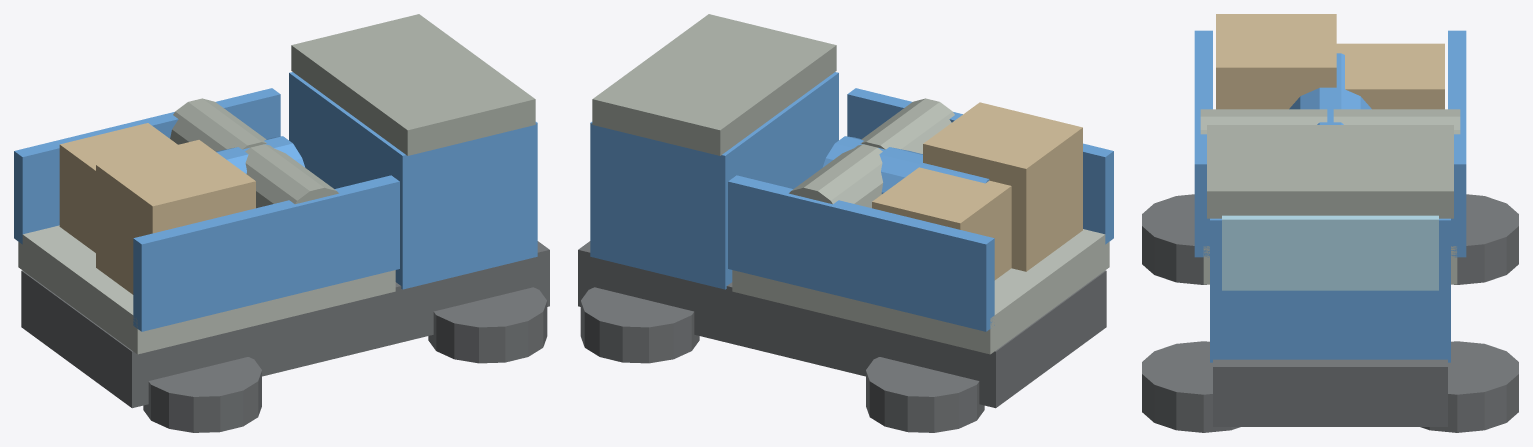
The model's file is supply_blue.glb.
3 views of the same model, side by side, from view 1: azimuth 30°, elevation 25°; view 2: azimuth 150°, elevation 25°; view 3: azimuth 270°, elevation 25° (orthographic). The views are drawn at different scales.
Visible parts, largest first — view 1: part05, part09, part00, part07, part11, part08, part01, part10, part03, part12, part13, part14 (+1 smaller); view 2: part05, part10, part00, part07, part11, part08, part12, part02, part04, part09, part14, part13 (+1 smaller); view 3: part07, part05, part06, part00, part11, part12, part01, part02, part03, part04, part09, part10 (+4 smaller).
Part boxes in pixels (x1=…): part05: x1=289, y1=72, x2=537, y2=289; part09: x1=133, y1=175, x2=399, y2=331; part00: x1=21, y1=241, x2=549, y2=408; part07: x1=291, y1=14, x2=535, y2=155; part11: x1=96, y1=140, x2=255, y2=294; part08: x1=18, y1=225, x2=395, y2=354; part01: x1=428, y1=287, x2=547, y2=363; part10: x1=14, y1=88, x2=280, y2=244; part03: x1=143, y1=357, x2=261, y2=432; part12: x1=59, y1=123, x2=177, y2=252; part13: x1=245, y1=144, x2=338, y2=208; part14: x1=170, y1=98, x2=266, y2=151; part05: x1=590, y1=72, x2=838, y2=289; part10: x1=728, y1=175, x2=994, y2=331; part00: x1=578, y1=241, x2=1106, y2=408; part07: x1=592, y1=14, x2=836, y2=155; part11: x1=923, y1=102, x2=1082, y2=271; part08: x1=732, y1=229, x2=1109, y2=354; part12: x1=872, y1=167, x2=1011, y2=280; part02: x1=580, y1=287, x2=699, y2=363; part04: x1=866, y1=357, x2=984, y2=432; part09: x1=847, y1=88, x2=1113, y2=244; part14: x1=789, y1=144, x2=883, y2=208; part13: x1=861, y1=98, x2=954, y2=153; part07: x1=1207, y1=125, x2=1453, y2=218; part05: x1=1210, y1=218, x2=1450, y2=362; part06: x1=1222, y1=215, x2=1438, y2=290; part00: x1=1213, y1=359, x2=1447, y2=426; part11: x1=1216, y1=14, x2=1336, y2=109; part12: x1=1336, y1=43, x2=1444, y2=109; part01: x1=1142, y1=341, x2=1240, y2=432; part02: x1=1420, y1=341, x2=1518, y2=432; part03: x1=1142, y1=194, x2=1206, y2=284; part04: x1=1454, y1=194, x2=1518, y2=284; part09: x1=1194, y1=30, x2=1212, y2=257; part10: x1=1448, y1=30, x2=1466, y2=257.
Bounding box in the file's own units: 1.7 × 0.88 × 1.25.
